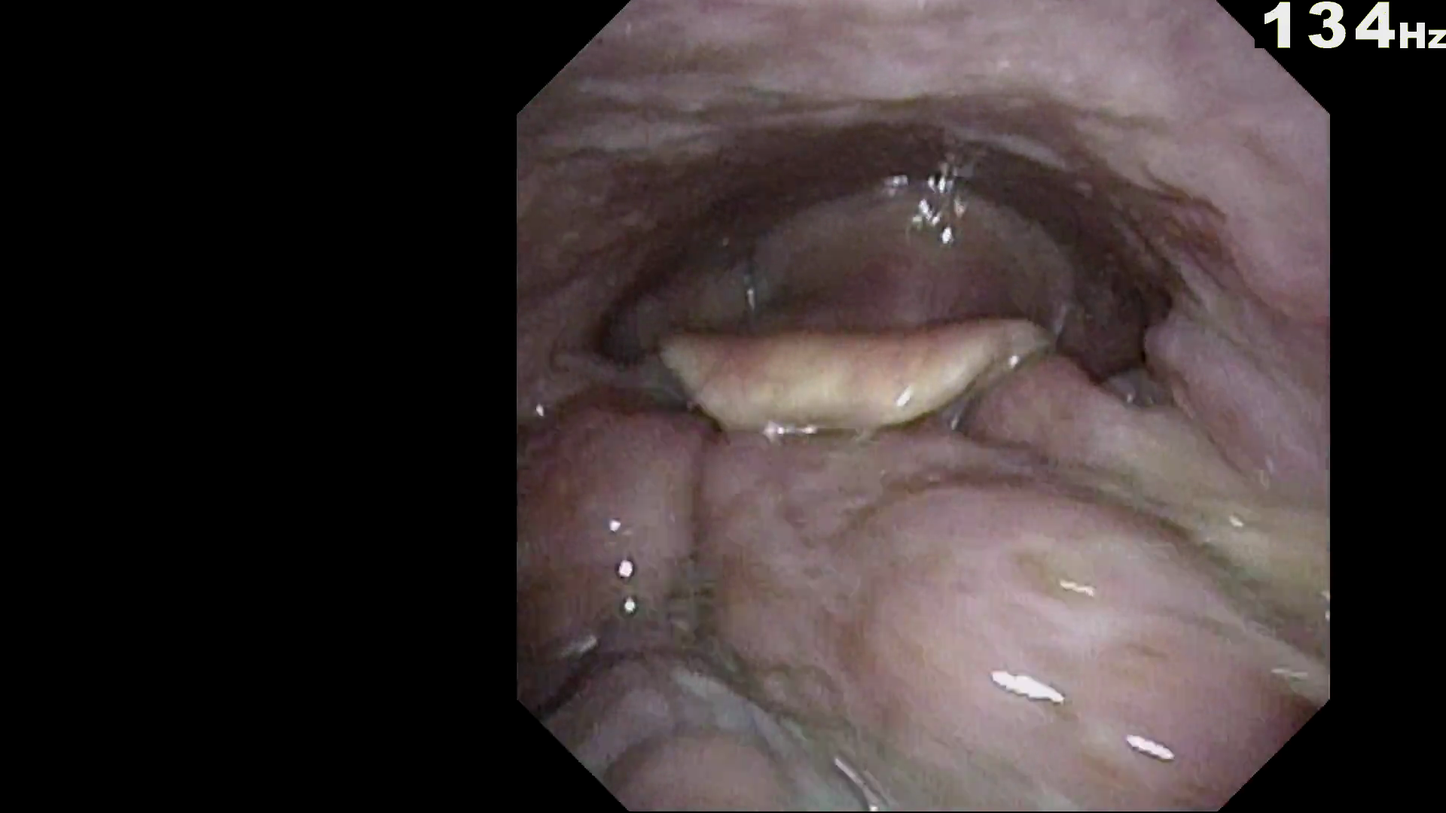epiglottis: (623, 335, 1146, 520)
